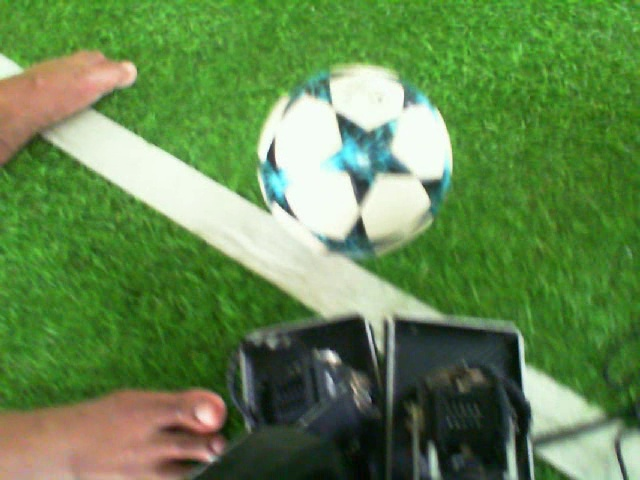ball: (254, 59, 455, 261)
